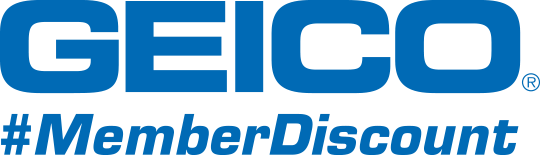geico: (2, 2, 540, 99)
